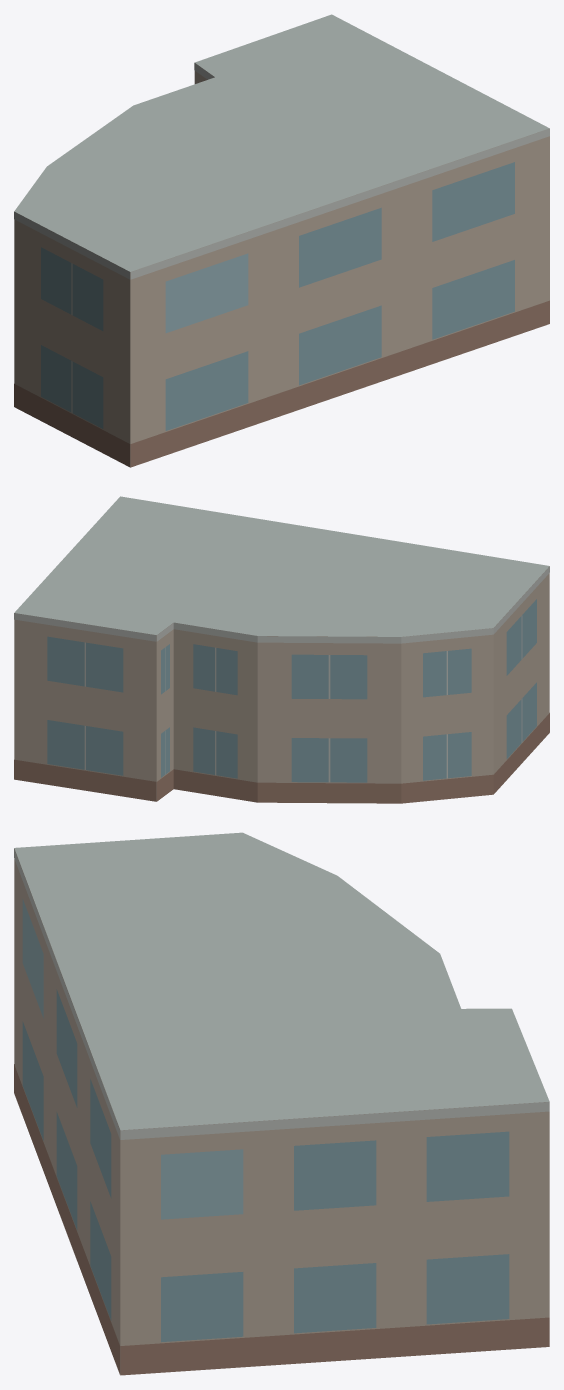
The model's file is survey-upis-32705639.glb.
3 renders of one model, top to bottom at view 1: azimuth 30°, elevation 25°; view 2: azimuth 150°, elevation 25°; view 3: azimuth 270°, elevation 25°, orthographic. The views are drawn at different scales.
Parts seen in each view (by area): view 1: survey-upis-32705639.tmp; view 2: survey-upis-32705639.tmp; view 3: survey-upis-32705639.tmp.
Part boxes in pixels (x1,y1,x2,y2): survey-upis-32705639.tmp: (14, 14, 549, 467); survey-upis-32705639.tmp: (14, 496, 549, 803); survey-upis-32705639.tmp: (14, 832, 549, 1375).
Bounding box in the file's own units: 15.91 × 6.1 × 12.09.
